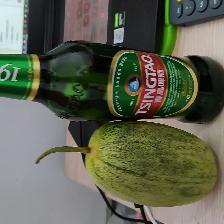gua: (75, 125, 213, 202)
